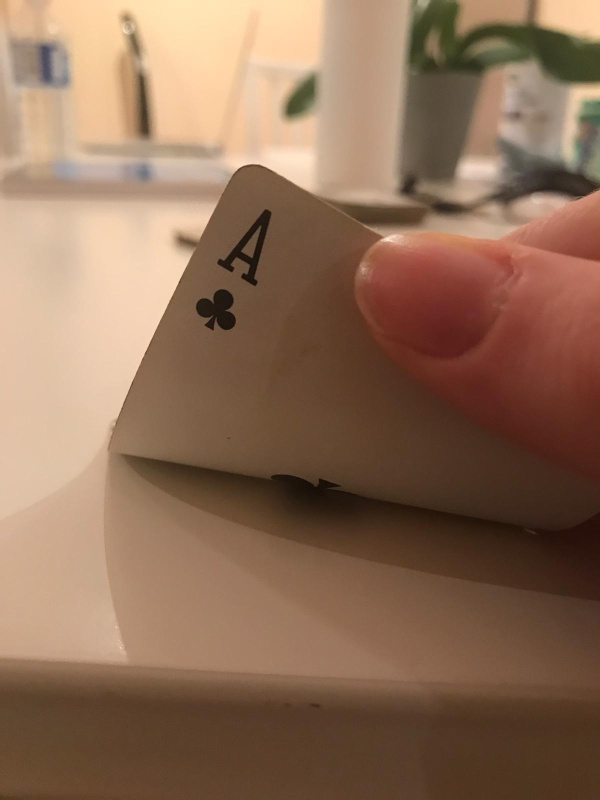Ca: (194, 195, 274, 336)
